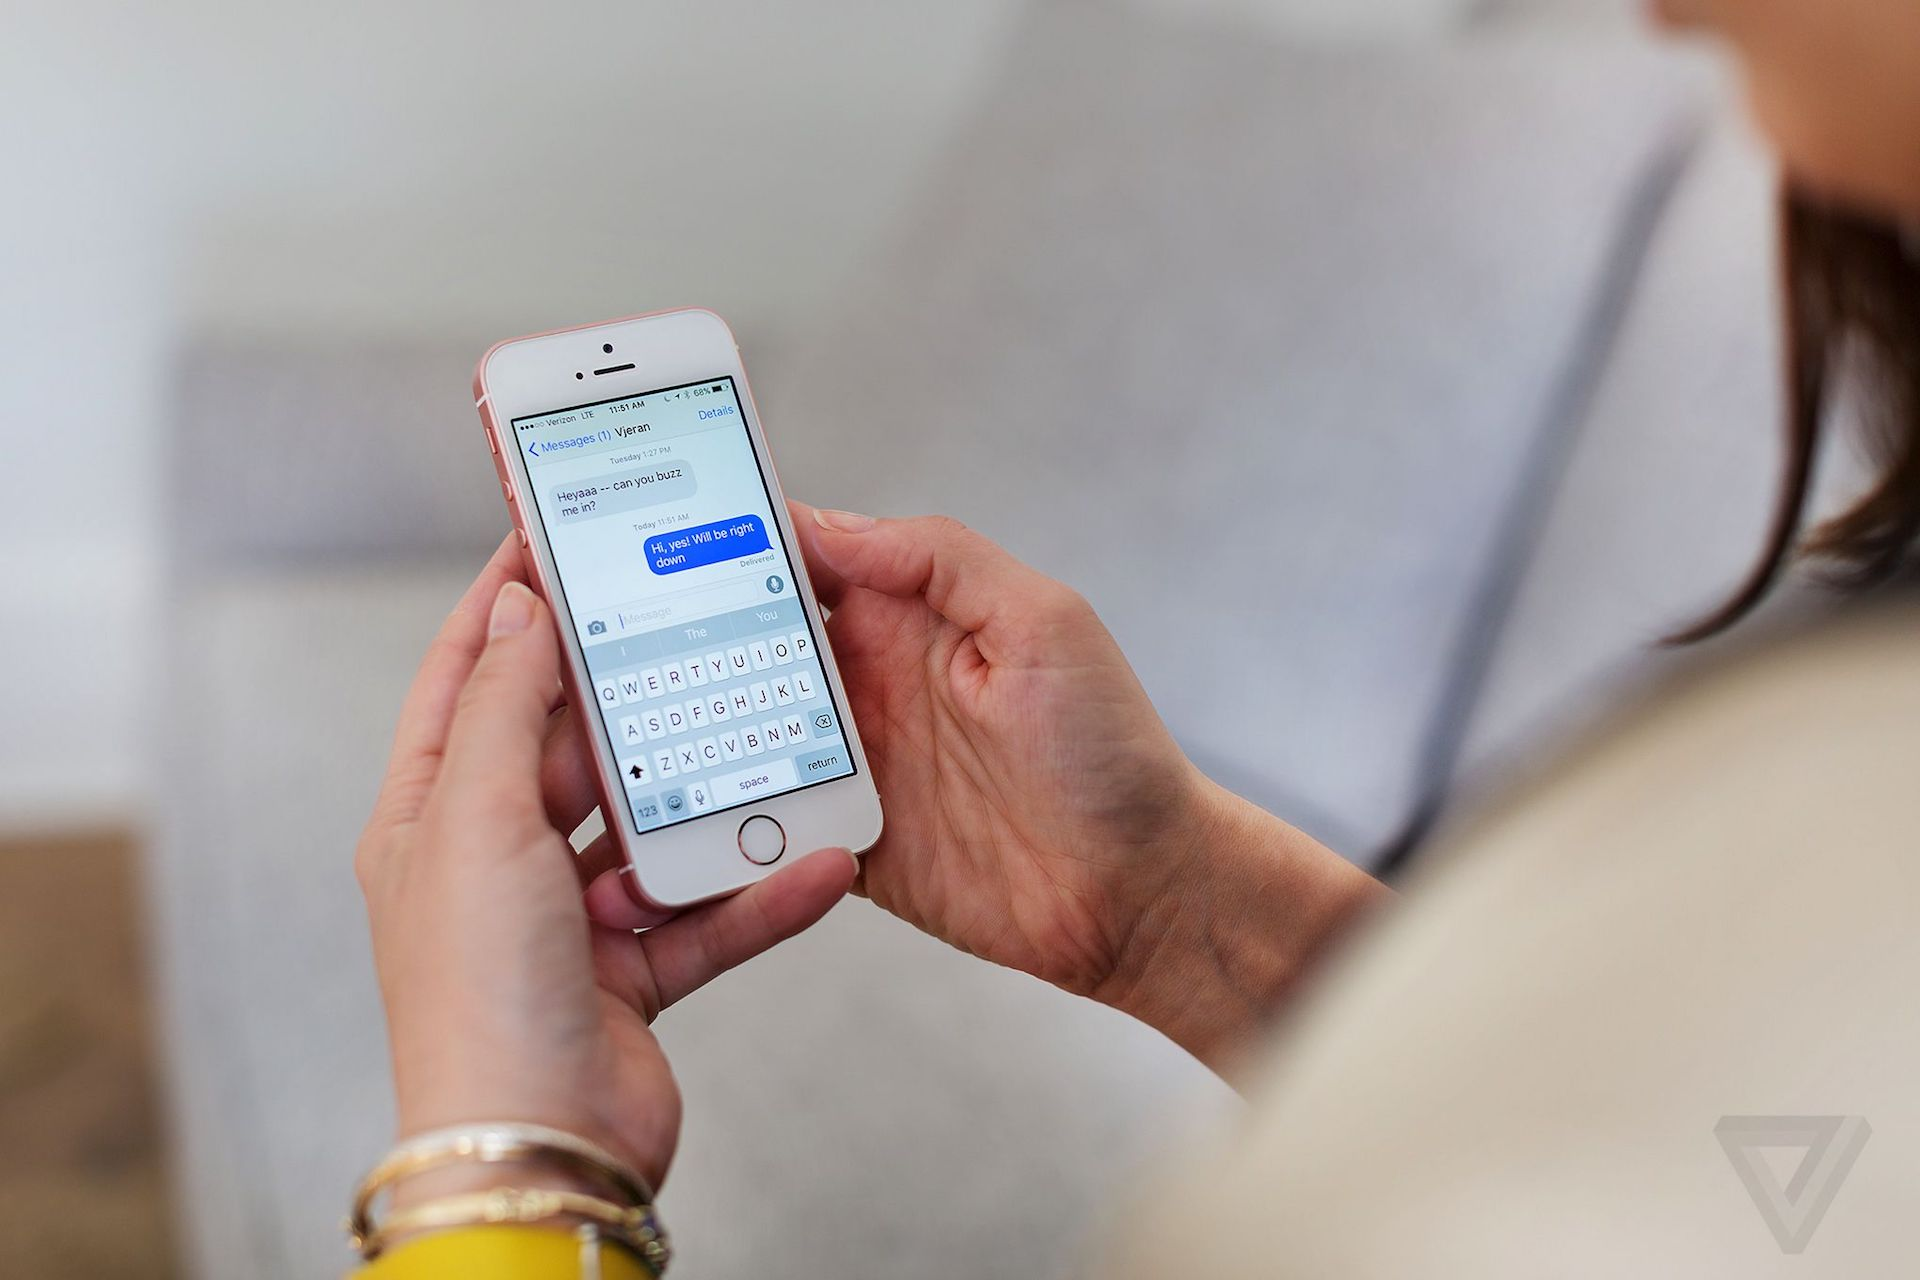smartphone: (471, 304, 887, 917)
